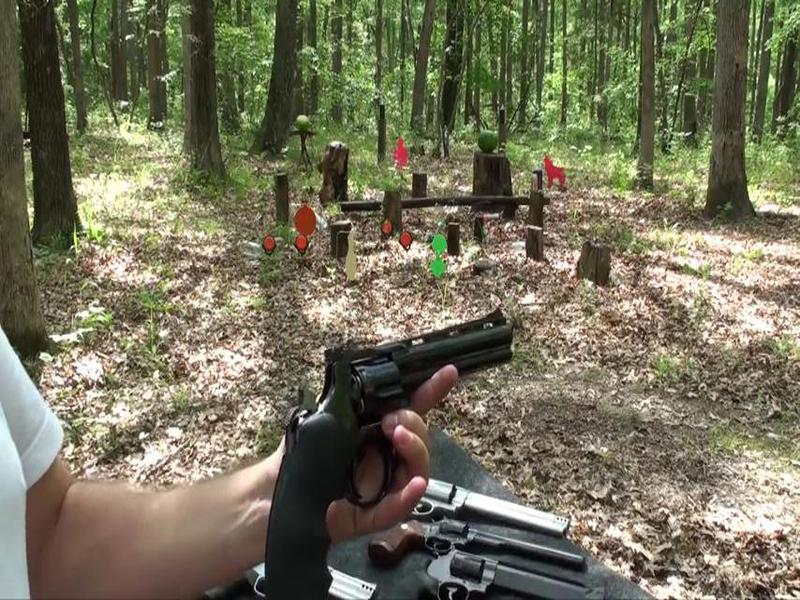Revolver: (276, 289, 543, 581)
